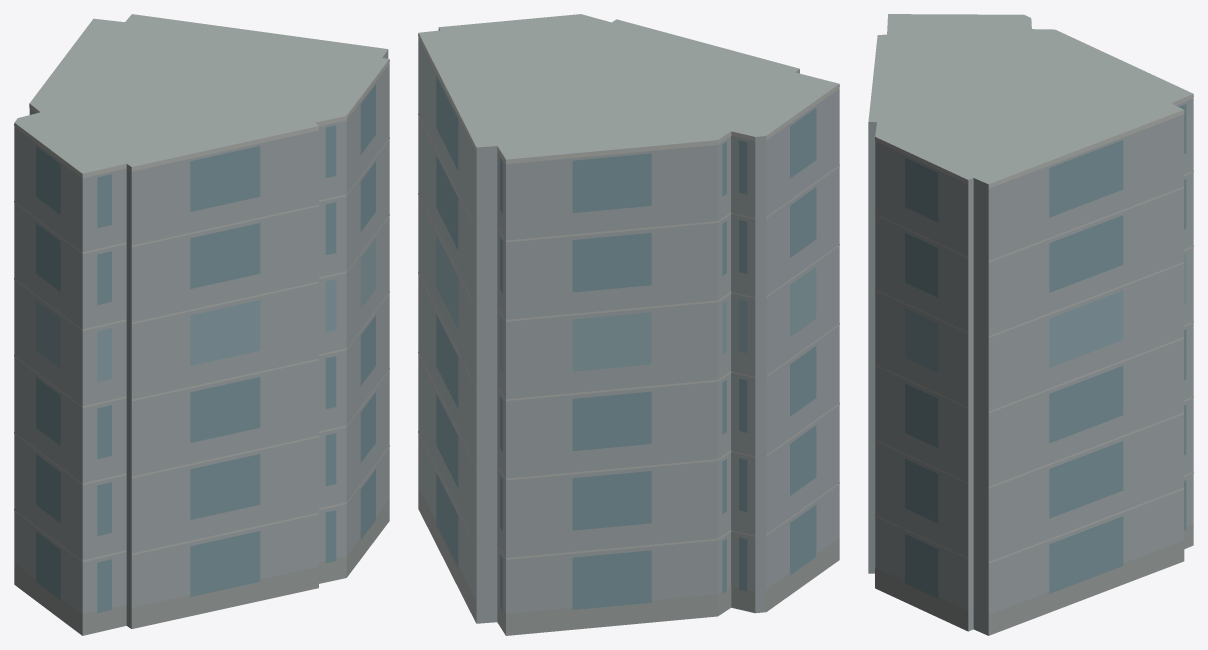
File: survey-upis-32692182.glb
3 views of the same model, side by side, from view 1: azimuth 30°, elevation 25°; view 2: azimuth 150°, elevation 25°; view 3: azimuth 270°, elevation 25° (orthographic). The views are drawn at different scales.
Visible parts, largest first — view 1: survey-upis-32692182.tmp; view 2: survey-upis-32692182.tmp; view 3: survey-upis-32692182.tmp.
Part boxes in pixels (left/top/right/bottom): survey-upis-32692182.tmp: left=14, top=14, right=389, bottom=635; survey-upis-32692182.tmp: left=418, top=14, right=839, bottom=635; survey-upis-32692182.tmp: left=868, top=14, right=1193, bottom=635.
Bounding box in the file's own units: 20.3 × 25.07 × 16.39.
